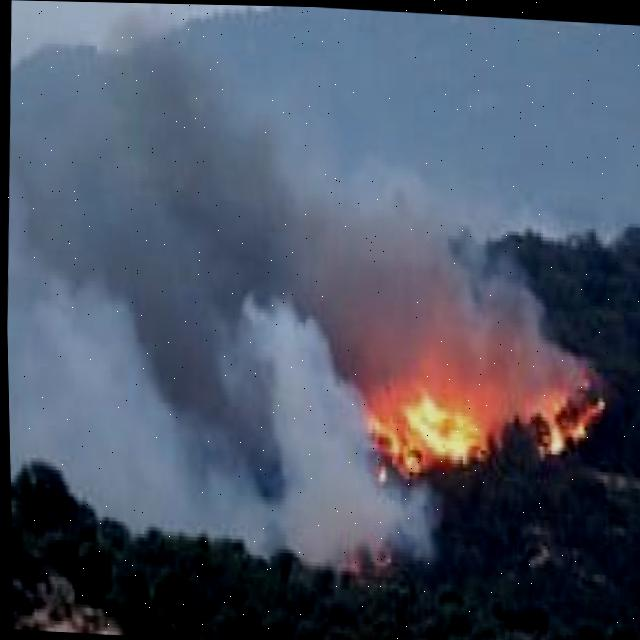fire: (365, 385, 479, 475)
smoke: (5, 83, 385, 562), (383, 224, 540, 390)
